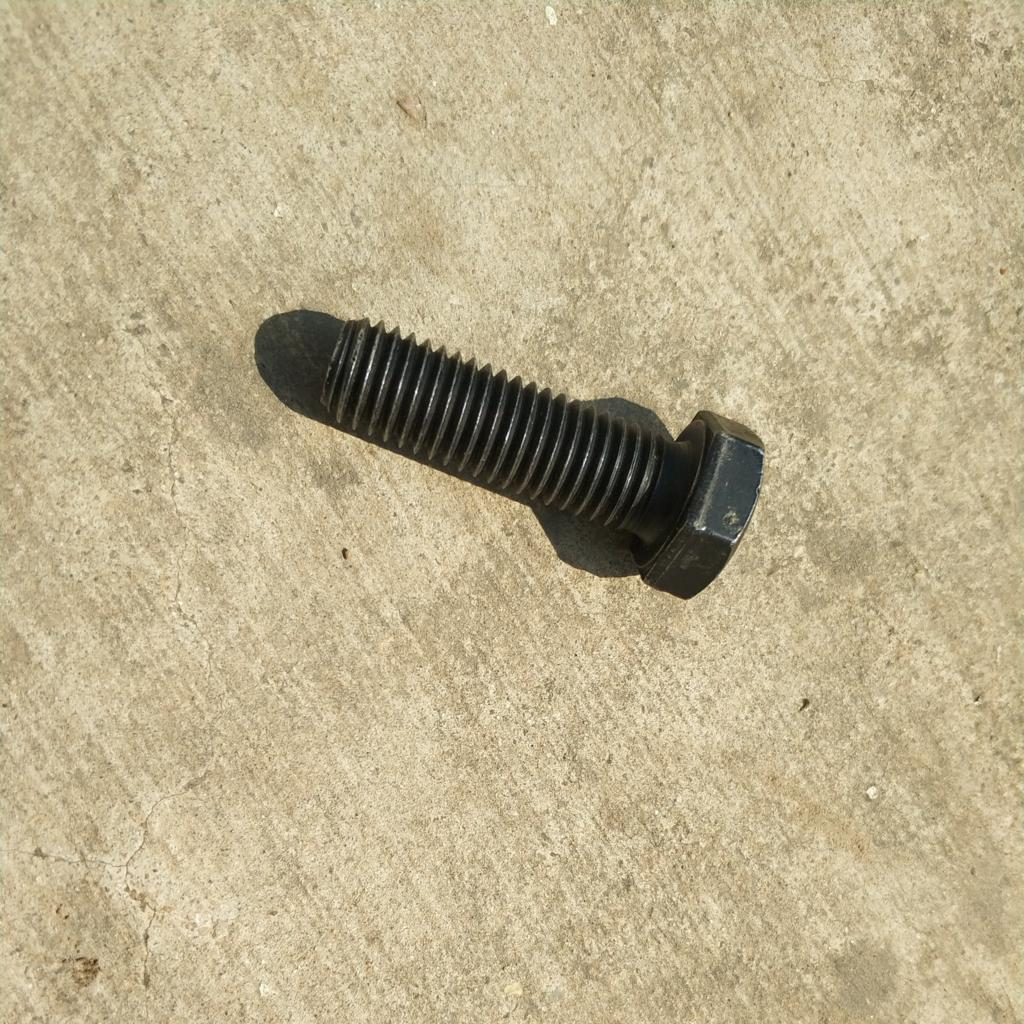screwtype2black: (298, 307, 772, 610)
